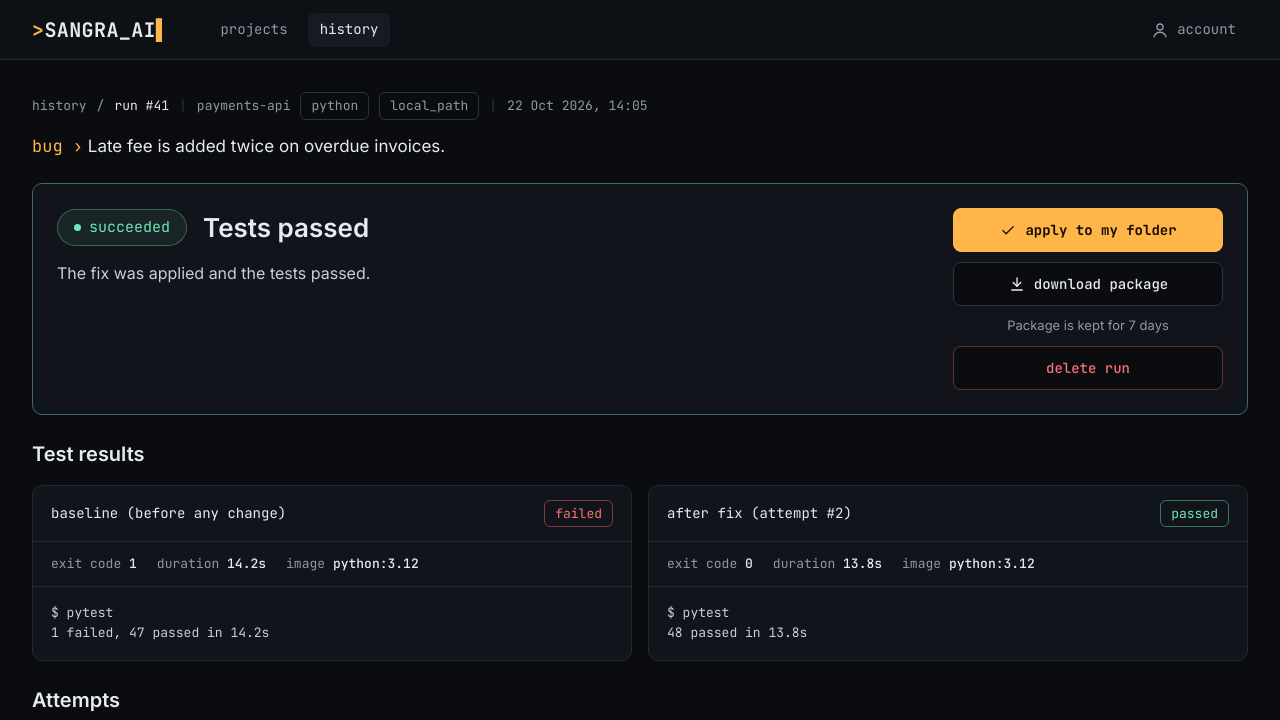
Scenario: problems › FE6-X01: PACKAGE_EXPIRED on download -> 'The package expired (kept 7 days)', the button is disabled
Expected: the element named "result" is shown, [32,183,1248,414]
Click the button "download package" at (1088, 284), box [953,262,1223,306]
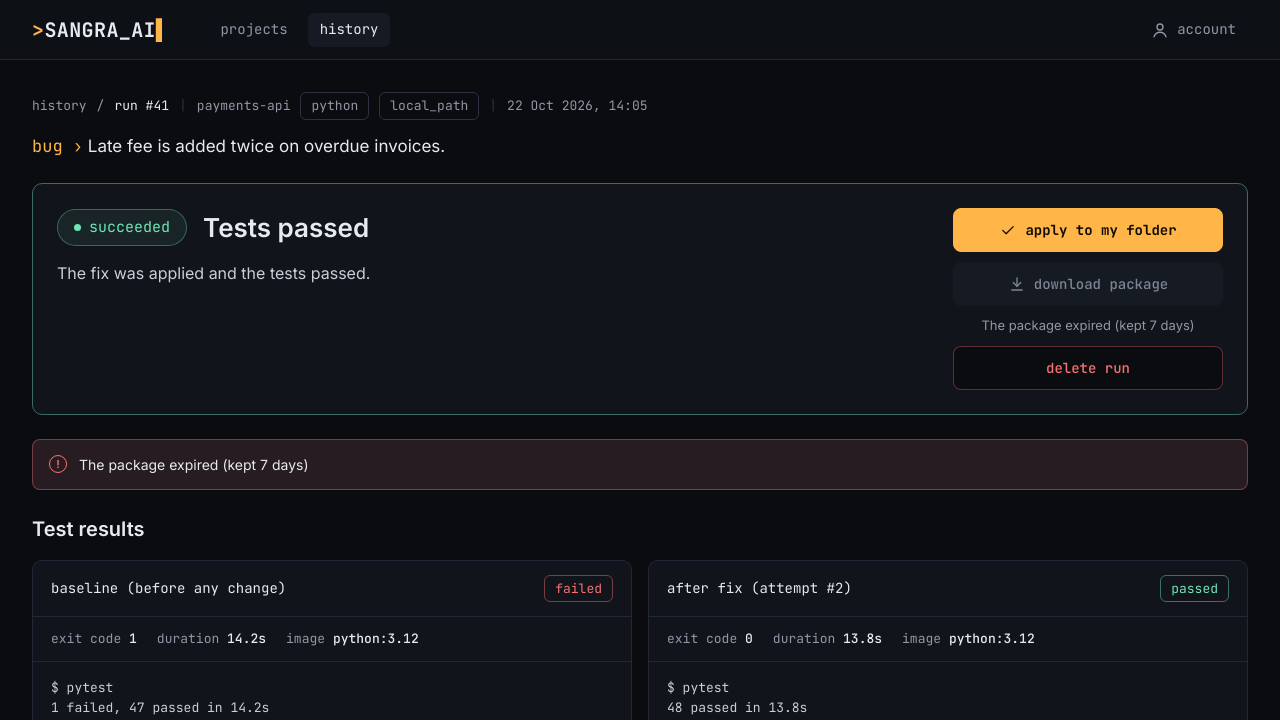
Now the message shows "The package expired (kept 7 days)", box [79,456,309,472]
Now the button "download package" is disabled, box [953,262,1223,306]
